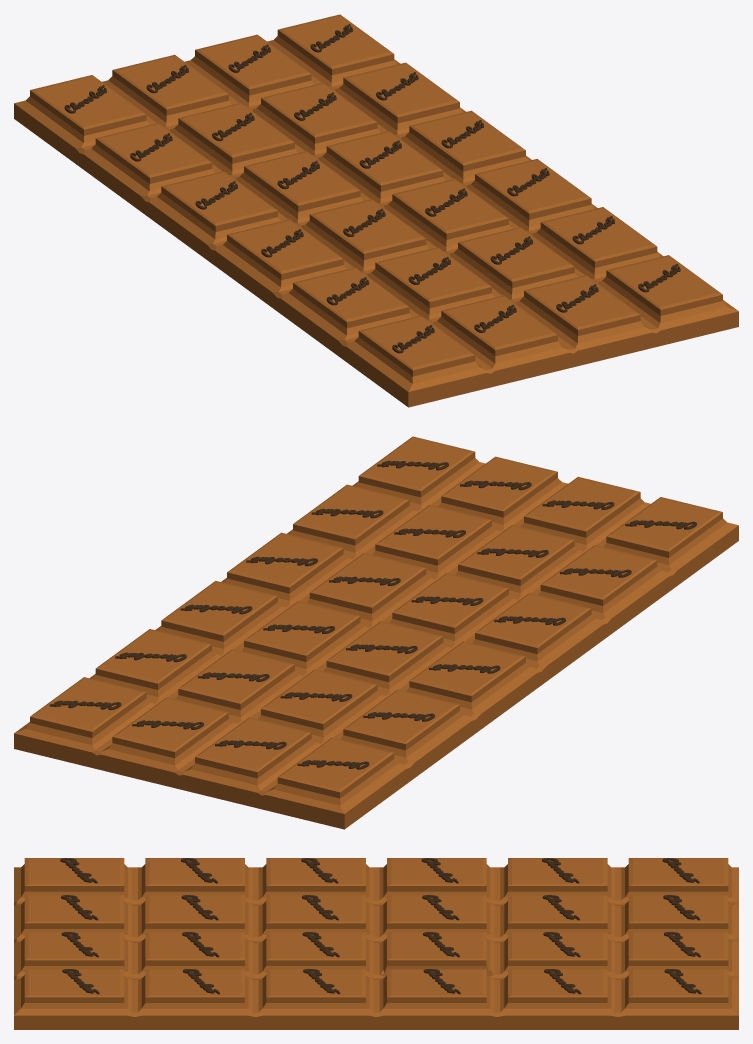
File: chocolate_barra.glb
The picture shows the model from 3 angles, top to bottom: view 1: azimuth 30°, elevation 25°; view 2: azimuth 150°, elevation 25°; view 3: azimuth 270°, elevation 25°; orthographic projection. The views are drawn at different scales.
Parts seen in each view (by area): view 1: Cube_0, Text_3; view 2: Cube_0, Text_3; view 3: Cube_0, Text_3.
Boxes of the visible parts, x1,y1,x2,y2 form: Cube_0: (14, 14, 738, 407); Text_3: (64, 24, 680, 353); Cube_0: (14, 436, 738, 829); Text_3: (49, 460, 696, 769); Cube_0: (14, 858, 738, 1029); Text_3: (60, 858, 701, 994).
Bounding box in the file's own units: 2.68 × 0.257 × 5.55.
